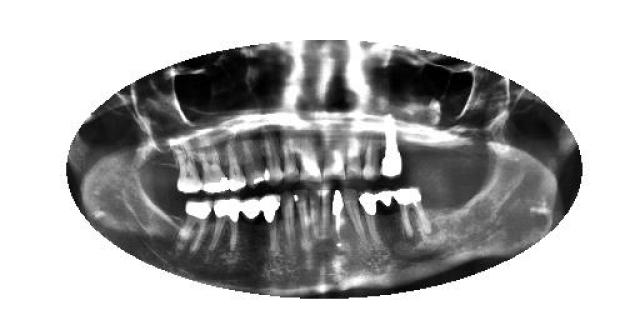Fillings: (394, 186, 428, 235), (179, 200, 211, 251), (174, 144, 205, 191), (199, 144, 229, 192), (214, 198, 238, 252), (262, 192, 282, 254), (225, 141, 246, 191), (360, 190, 378, 244), (236, 196, 262, 222), (379, 189, 395, 210)
Implant: (380, 114, 404, 178), (330, 188, 344, 252)
